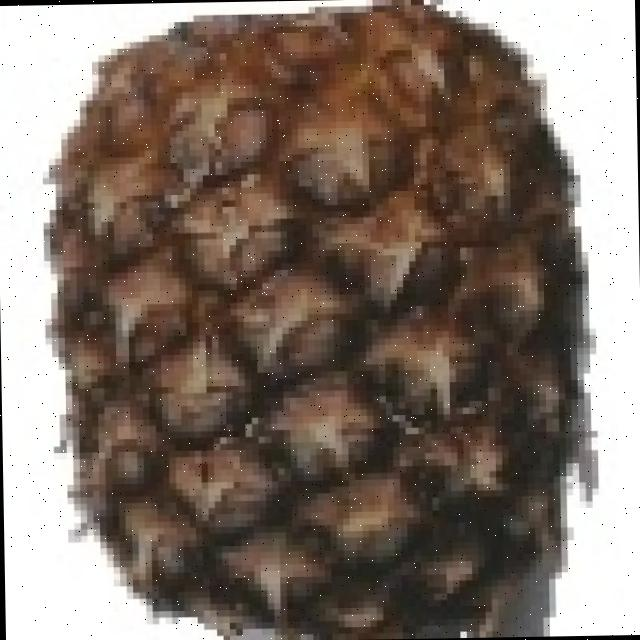pineapple: (48, 0, 586, 640)
